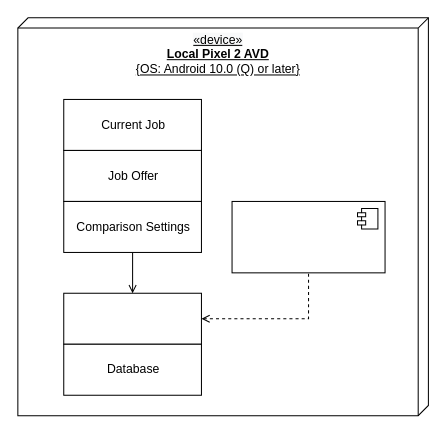
Image size: 447x434. Some labels were removed from this diagram. The box of each missing label's shape, as (x1, y1, x2, y2) in pixels:
Persistence: (63, 292, 201, 344)
«Component» Comparison: (231, 200, 385, 273)
